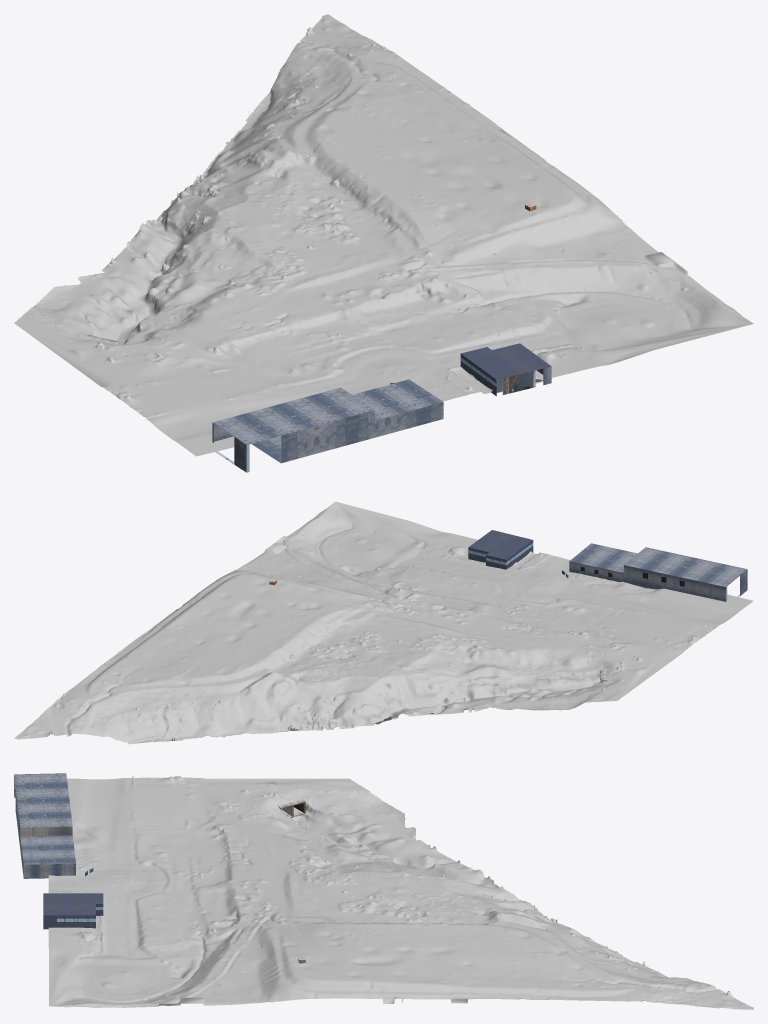
Rendered from TerrainMap.fbx.
3 renders of one model, top to bottom at view 1: azimuth 30°, elevation 25°; view 2: azimuth 150°, elevation 25°; view 3: azimuth 270°, elevation 25°, orthographic. The views are drawn at different scales.
Visible parts, largest first — view 1: a1Map; view 2: a1Map; view 3: a1Map.
Boxes of the visible parts, x1=… form: a1Map: x1=14, y1=14, x2=753, y2=472; a1Map: x1=14, y1=501, x2=753, y2=744; a1Map: x1=14, y1=773, x2=753, y2=1009.
Size of the model in its own units: 32339 by 2479 by 44881.
